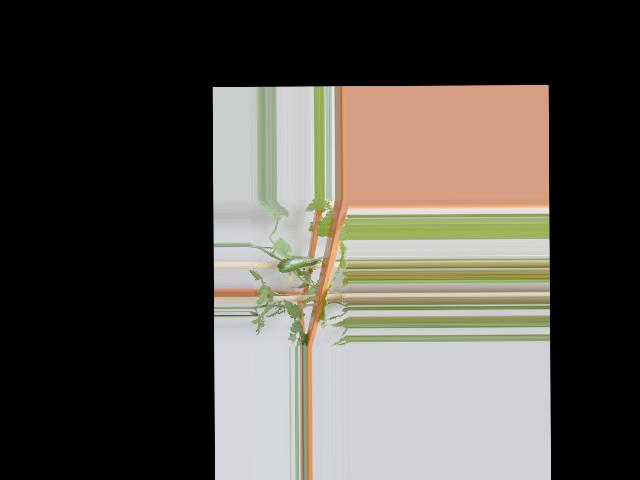cucumber: (273, 256, 316, 273)
